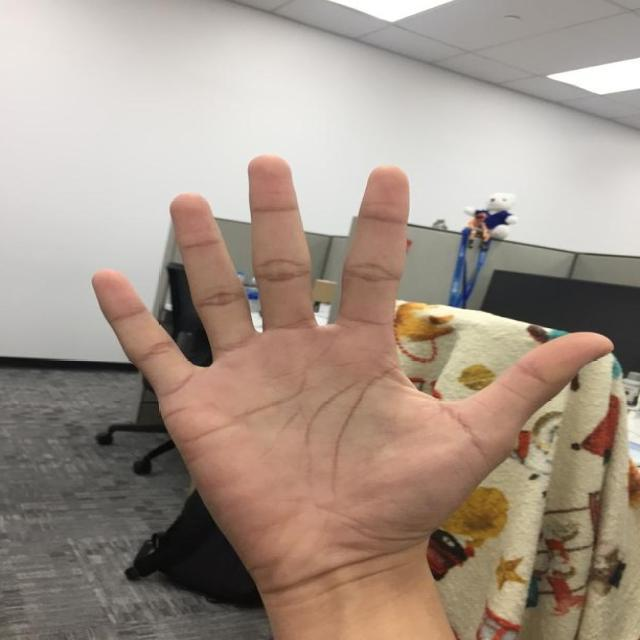hand: (89, 158, 616, 572)
